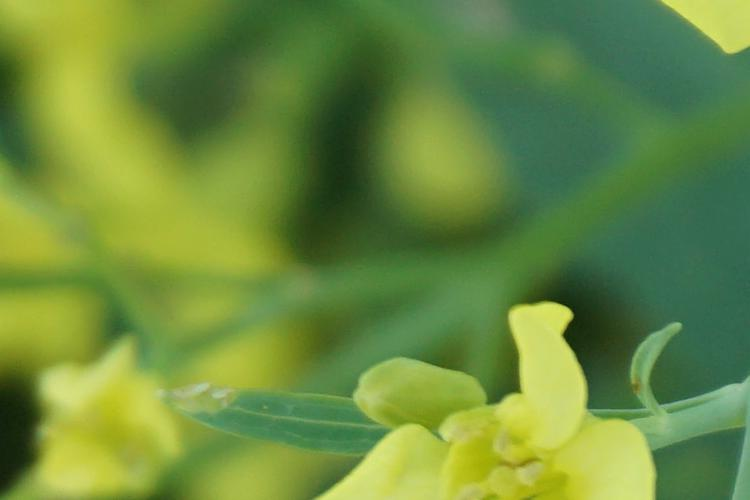bud: (341, 348, 498, 432)
yellow: (311, 288, 659, 500)
